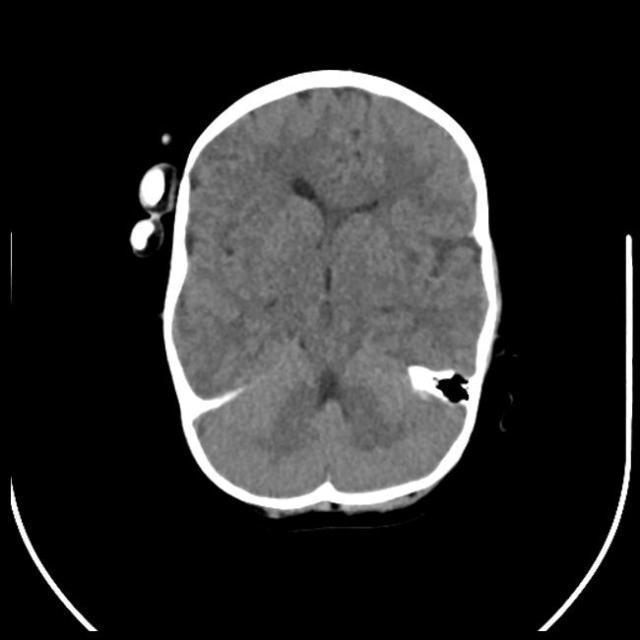lesion: (377, 337, 482, 448)
